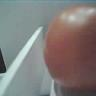tomato: (43, 7, 96, 93)
